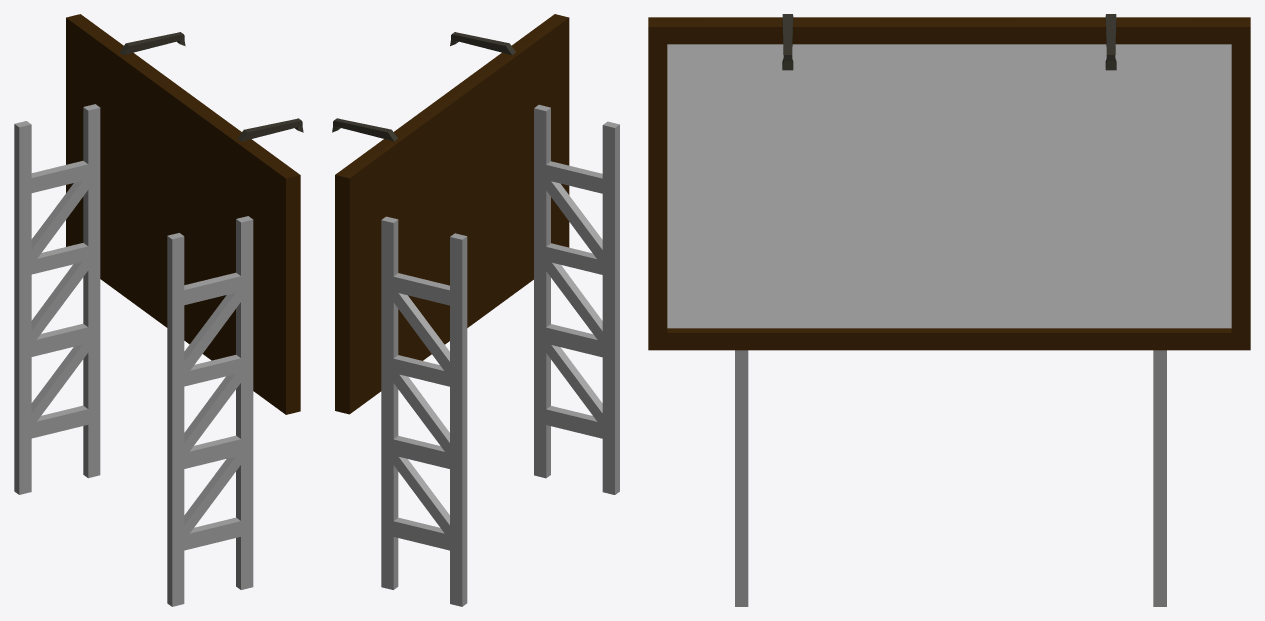
The model's file is Schild.fbx fick die hennenenen.fbx.
3 renders of one model, left to right at view 1: azimuth 30°, elevation 25°; view 2: azimuth 150°, elevation 25°; view 3: azimuth 270°, elevation 25°, orthographic. The views are drawn at different scales.
Visible parts, largest first — view 1: schild; view 2: schild; view 3: schild.
Boxes of the visible parts, x1,y1,x2,y2 form: schild: (14,14,303,606); schild: (332,14,619,606); schild: (648,14,1250,606).
Bounding box in the file's own units: 132 × 372 × 338.
